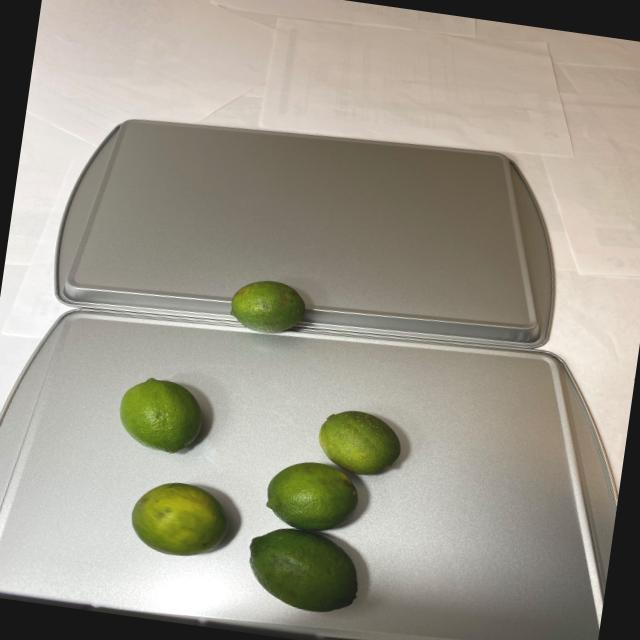lemon: (88, 370, 431, 625), (225, 275, 315, 344)
